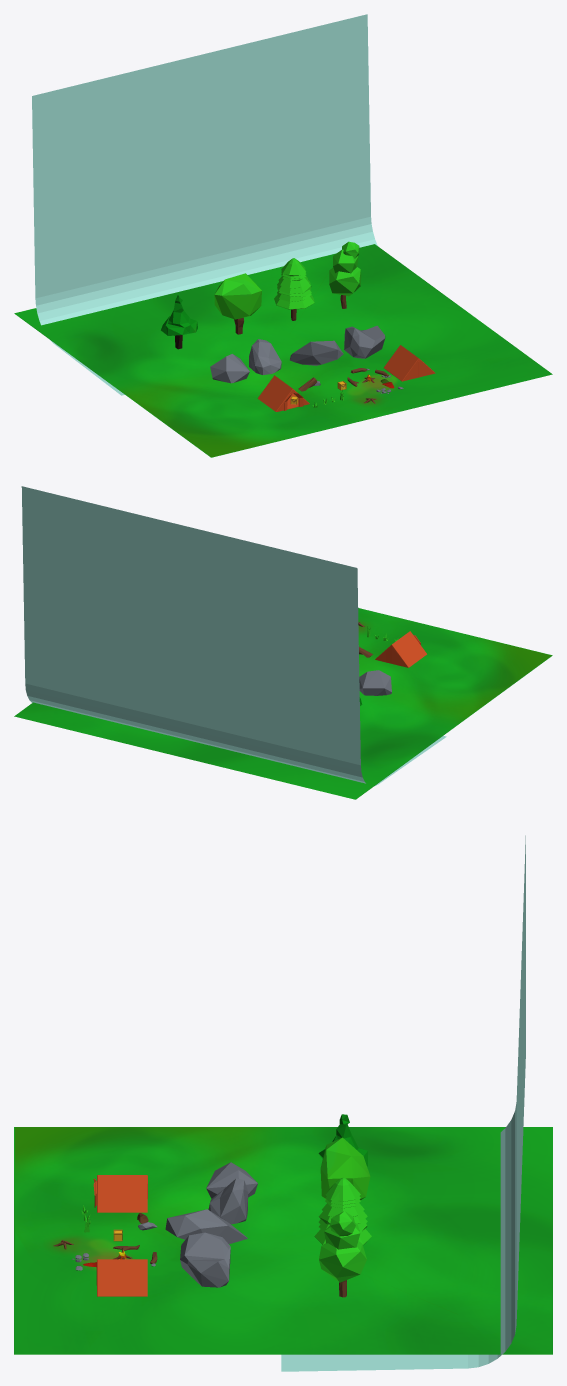
The model's file is LowPoly Pack - Camping Enviroment.fbx.
3 renders of one model, top to bottom at view 1: azimuth 30°, elevation 25°; view 2: azimuth 150°, elevation 25°; view 3: azimuth 270°, elevation 25°, orthographic. The views are drawn at different scales.
Parts seen in each view (by area): view 1: Background, Terrain, Tree_T2, Tree_T3, Tree_T4, Rock_T2, Tent_Close, Tent_Open, Rock_T4.001, Rock_T1, Tree_T1, Rock_T3; view 2: Background, Terrain, Tent_Open, Rock_T3; view 3: Terrain, Background, Tree_T4, Rock_T2, Tent_Open, Tree_T2, Tent_Close, Tree_T3, Rock_T4.001, Rock_T1, Rock_T3.
Boxes of the visible parts, x1,y1,x2,y2 form: Background: (32,14,377,395); Terrain: (14,244,552,457); Tree_T2: (214,273,261,334); Tree_T3: (274,258,314,320); Tree_T4: (329,241,361,308); Rock_T2: (344,325,385,358); Tent_Close: (384,345,435,381); Tent_Open: (257,375,309,411); Rock_T4.001: (290,340,343,365); Rock_T1: (249,339,281,374); Tree_T1: (161,295,197,349); Rock_T3: (210,354,249,383); Background: (21,486,446,786); Terrain: (14,608,552,799); Tent_Open: (375,631,426,667); Rock_T3: (359,670,391,695); Terrain: (14,1127,552,1354); Background: (281,835,525,1371); Tree_T4: (319,1211,366,1297); Rock_T2: (180,1232,230,1287); Tent_Open: (93,1175,147,1212); Tree_T2: (320,1137,370,1200); Tent_Close: (96,1259,147,1296); Tree_T3: (314,1178,371,1245); Rock_T4.001: (165,1209,247,1243); Rock_T1: (208,1178,248,1224); Rock_T3: (206,1162,257,1198).
Bounding box in the file's own units: 2136 × 1406 × 2124.
